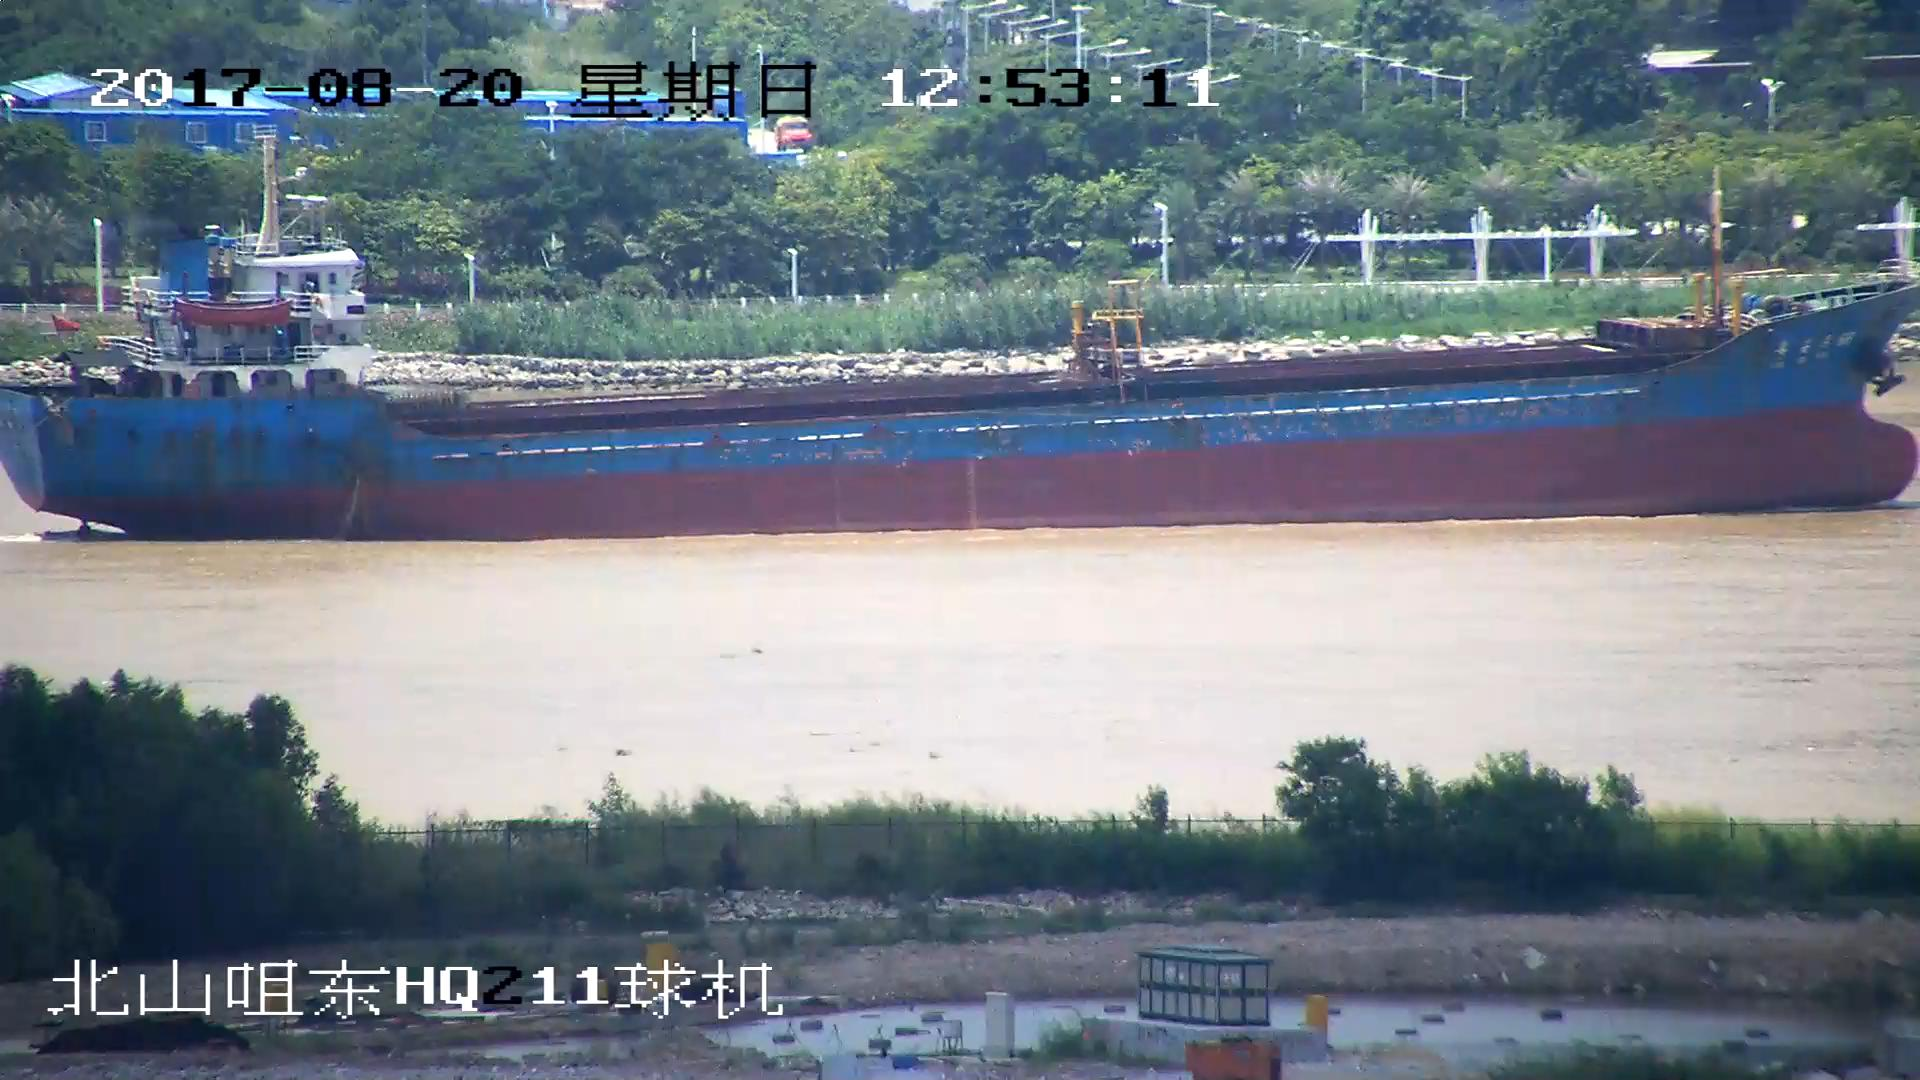general cargo ship: (4, 152, 1920, 539)
